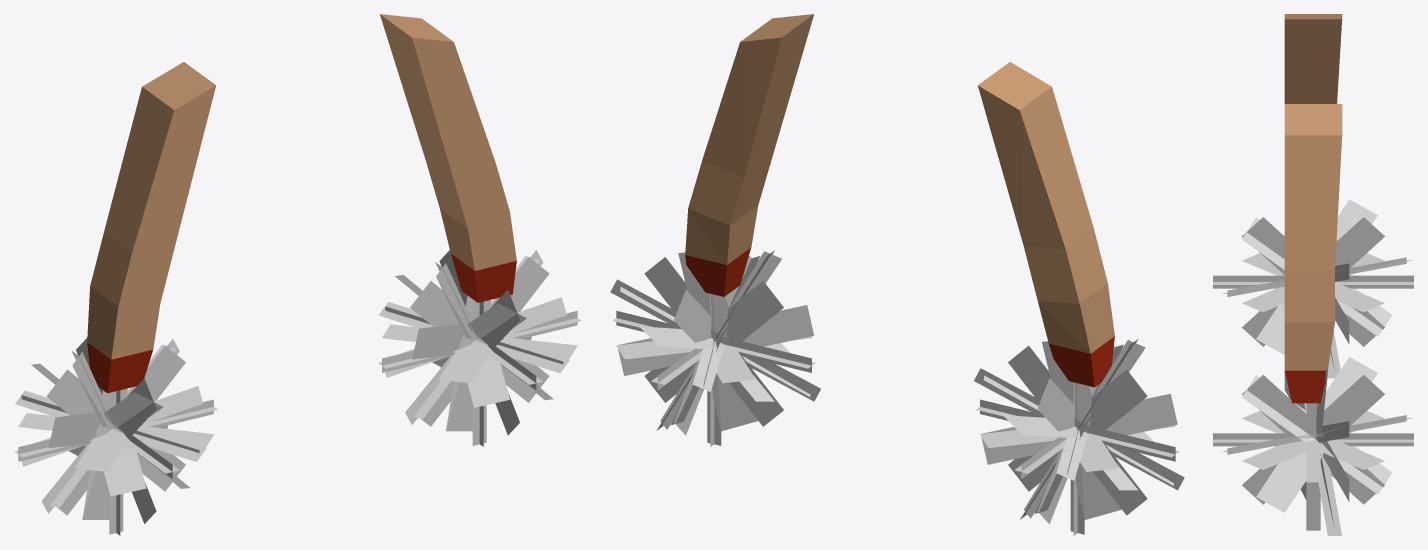
The model's file is npc_world_cheerleader_2.obj.
3 renders of one model, left to right at view 1: azimuth 30°, elevation 25°; view 2: azimuth 150°, elevation 25°; view 3: azimuth 270°, elevation 25°, orthographic. The views are drawn at different scales.
Bounding box in the file's own units: 0.625 × 0.4688 × 0.2188.
